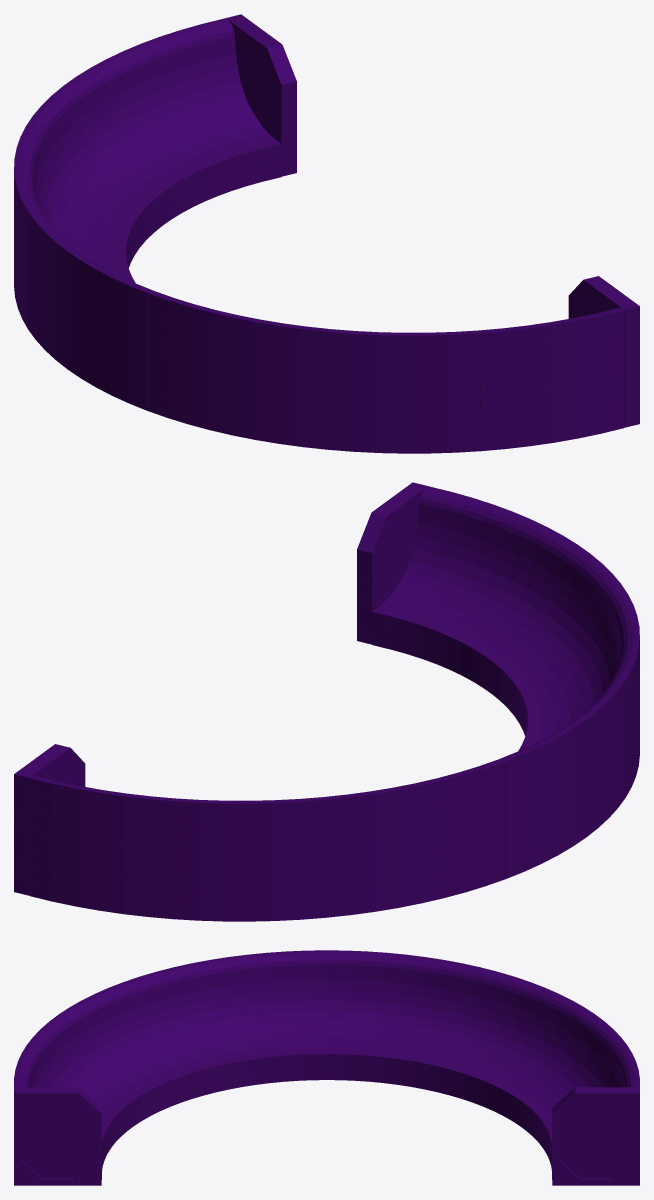
The model's file is Couch astronomy.glb.
3 renders of one model, top to bottom at view 1: azimuth 30°, elevation 25°; view 2: azimuth 150°, elevation 25°; view 3: azimuth 270°, elevation 25°, orthographic. The views are drawn at different scales.
Visible parts, largest first — view 1: Cube; view 2: Cube; view 3: Cube.
Part boxes in pixels (box(x1,y1,x2,y2)): Cube: box(14, 14, 639, 453); Cube: box(14, 482, 639, 921); Cube: box(14, 950, 639, 1185).
Bounding box in the file's own units: 37.83 × 11.44 × 70.03.
1 material, 1 textured.
